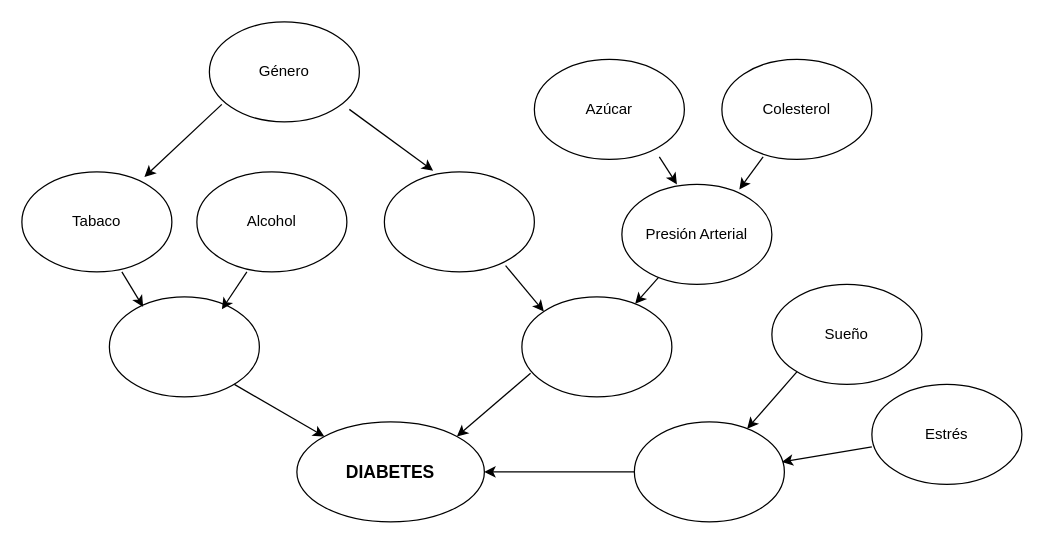
This 1044x544 diagram has some shape labels left out. Each missing label, with the centre of its shape:
"Deporte" belongs at (x=458, y=221).
"Drogas" belongs at (x=183, y=346).
"Salud mental" belongs at (x=708, y=471).
"Sobrepeso" belongs at (x=596, y=346).
